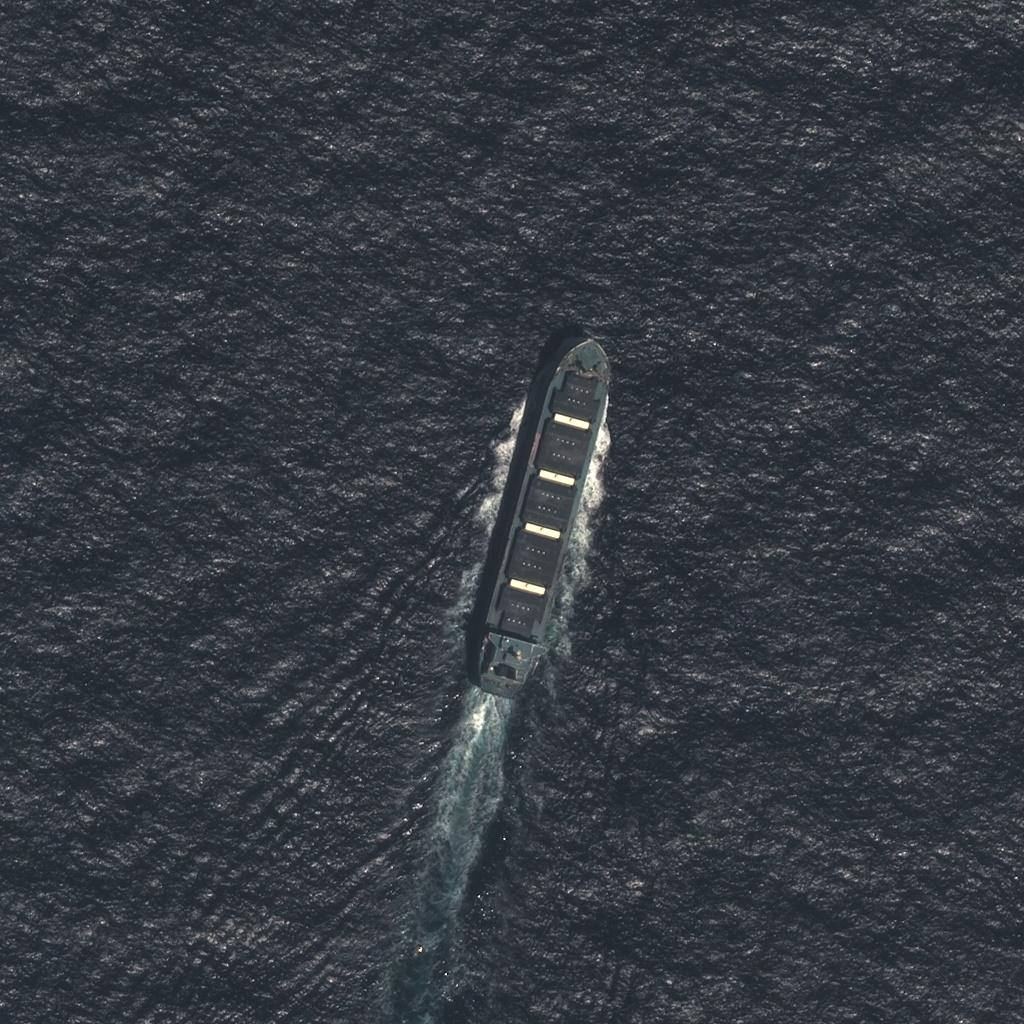ship: (468, 327, 616, 706)
